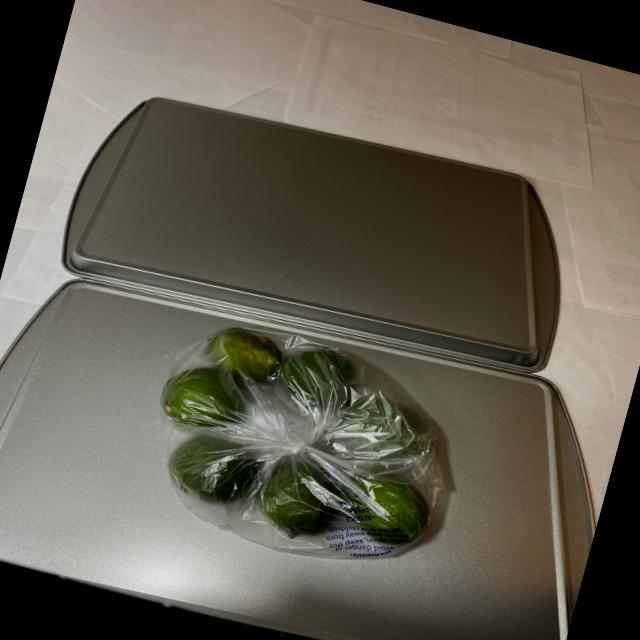lemon: (142, 312, 460, 562)
